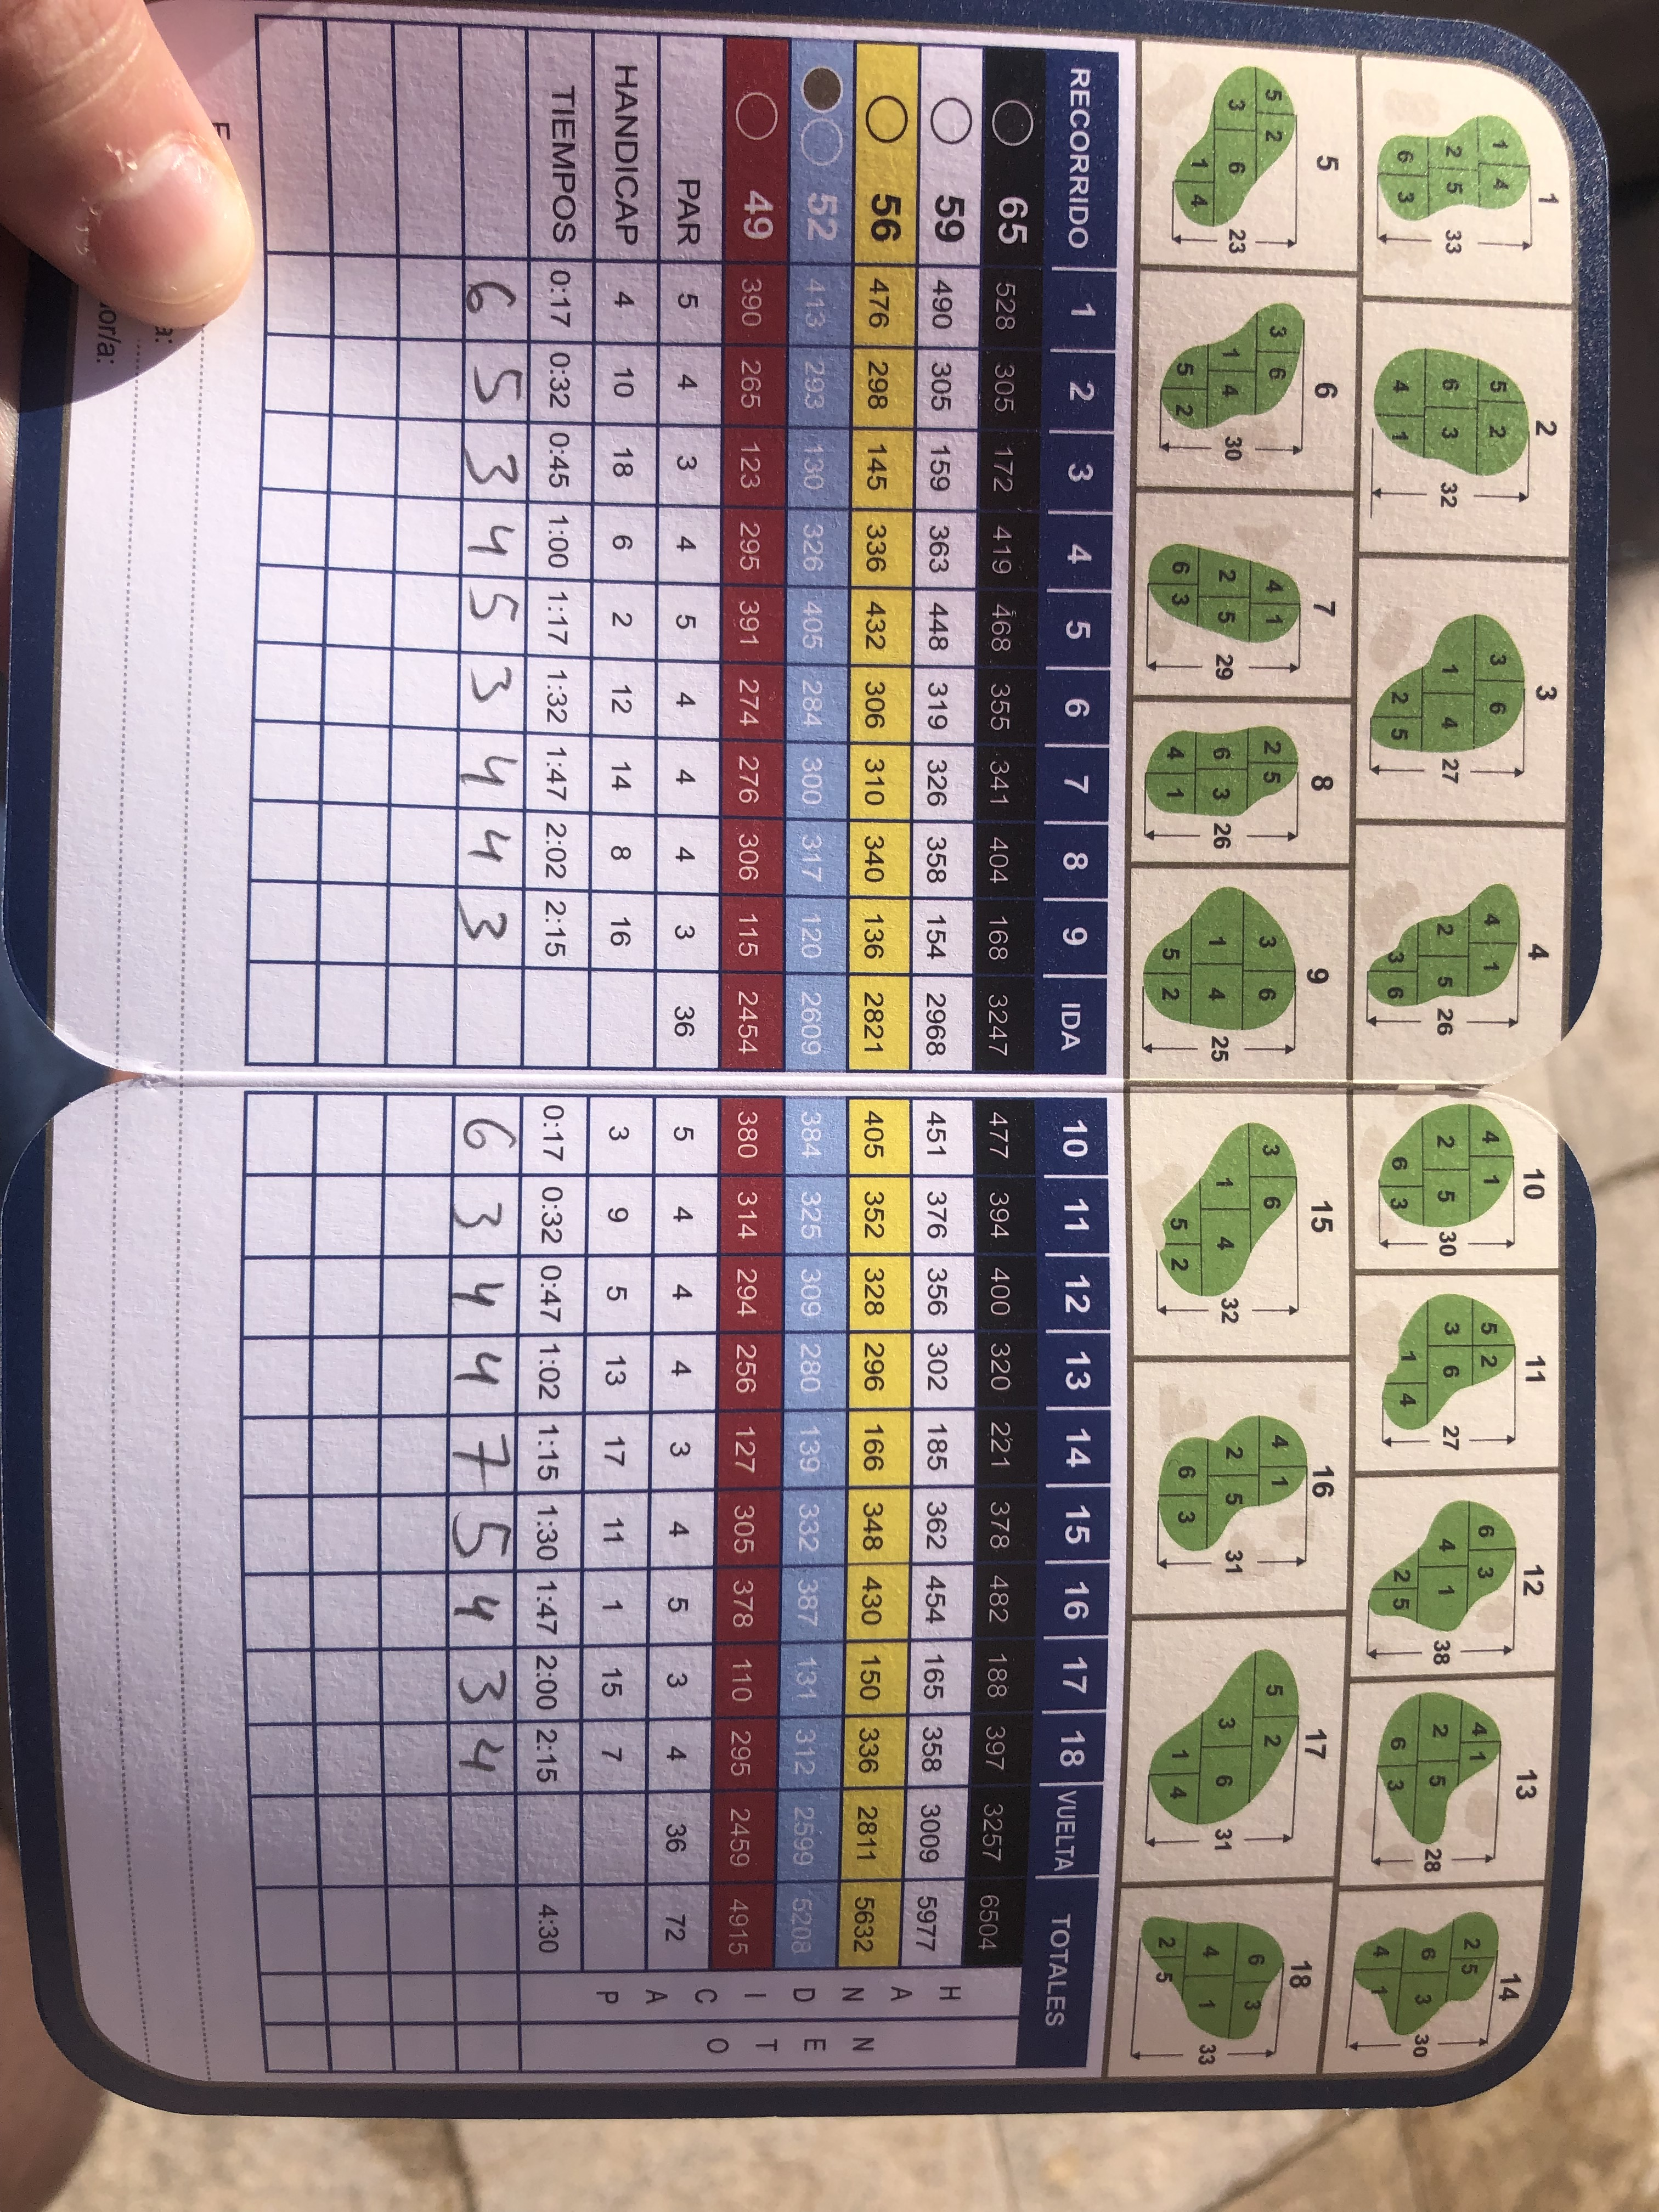par: (647, 171, 713, 1958)
score: (450, 256, 521, 1791)
